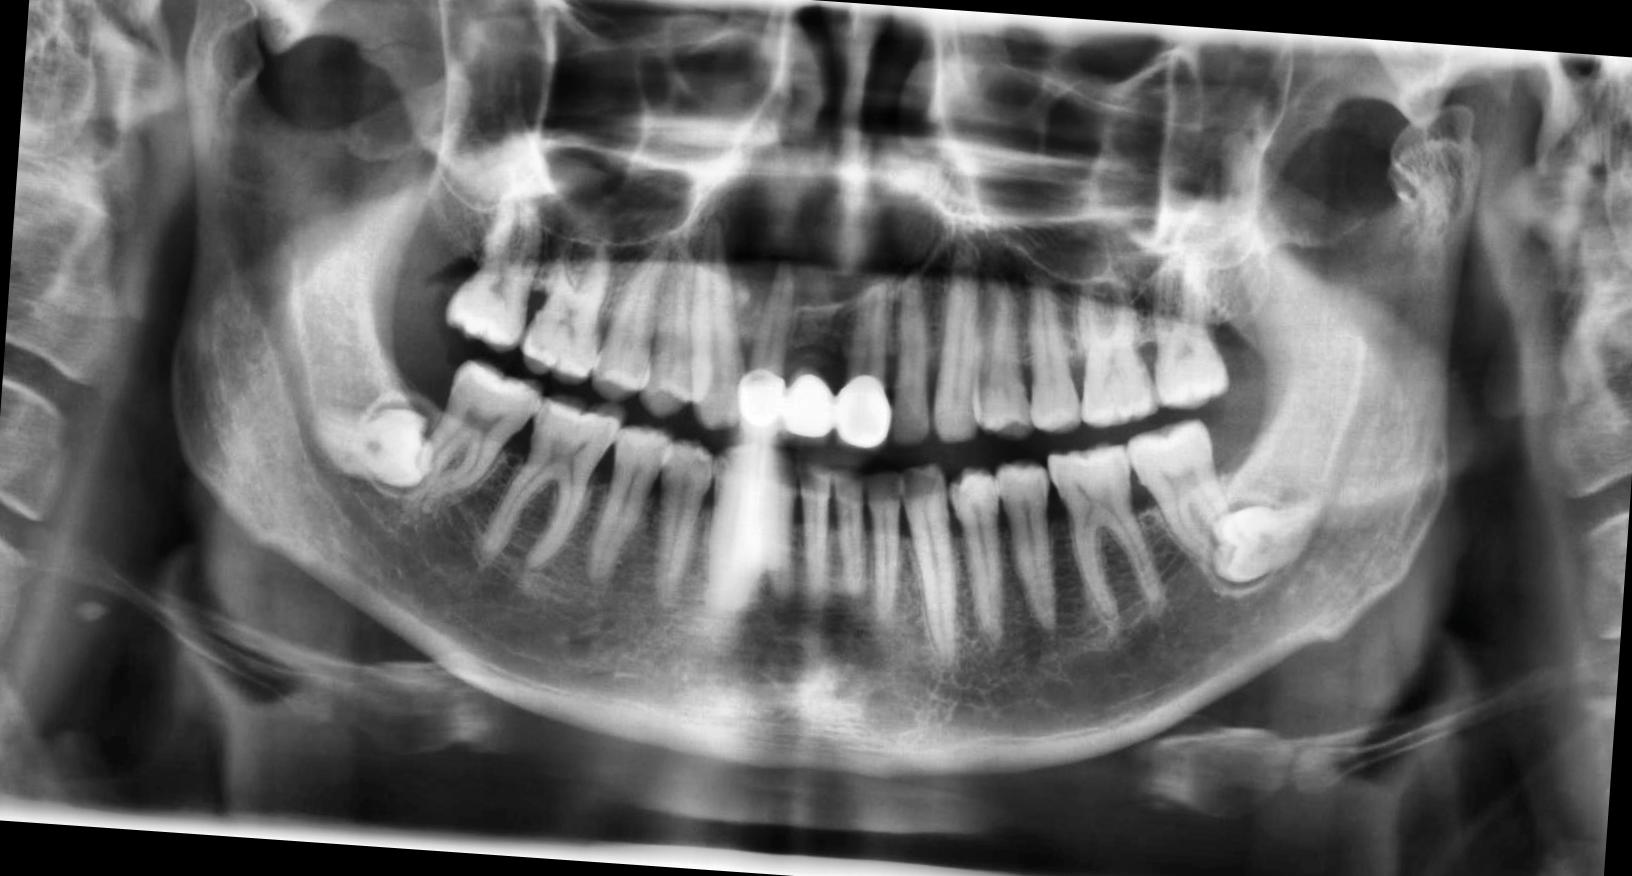radikuler: (678, 164, 950, 318)
